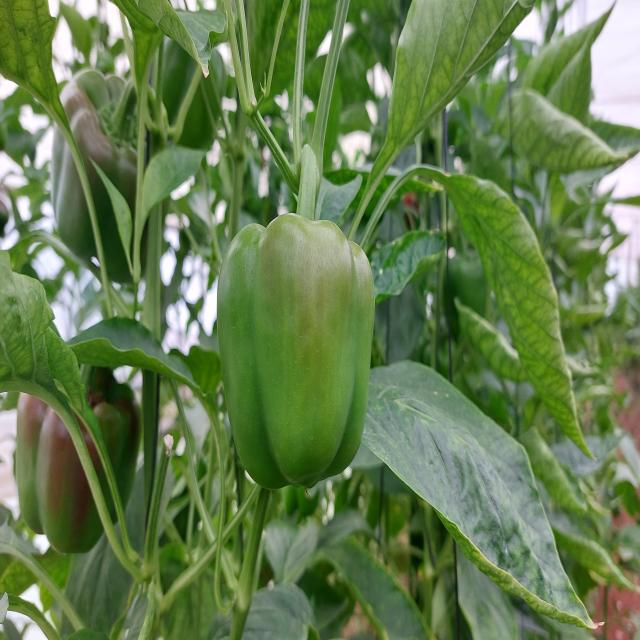Green--Not-ready-to-harvest: (219, 214, 374, 506)
